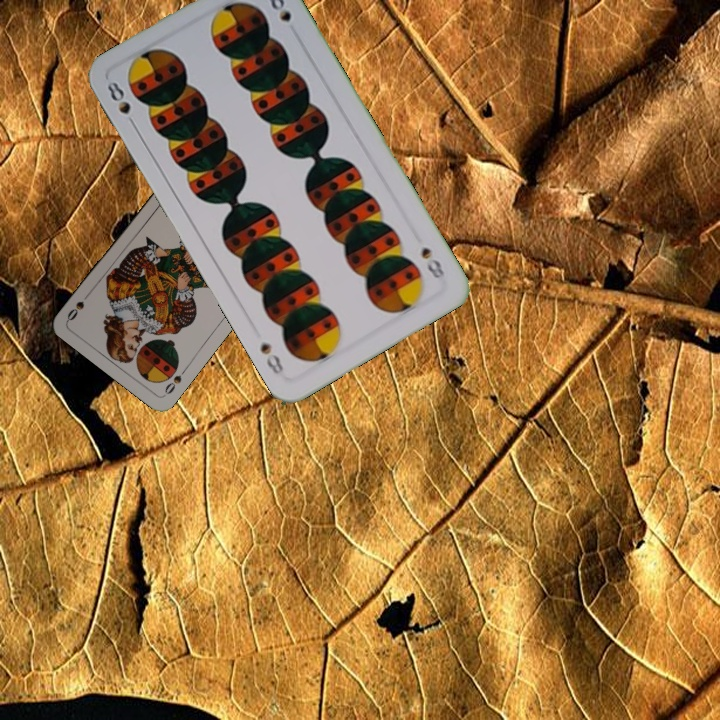S8: (103, 77, 140, 132), (417, 242, 448, 281)
SO: (160, 364, 190, 398)
